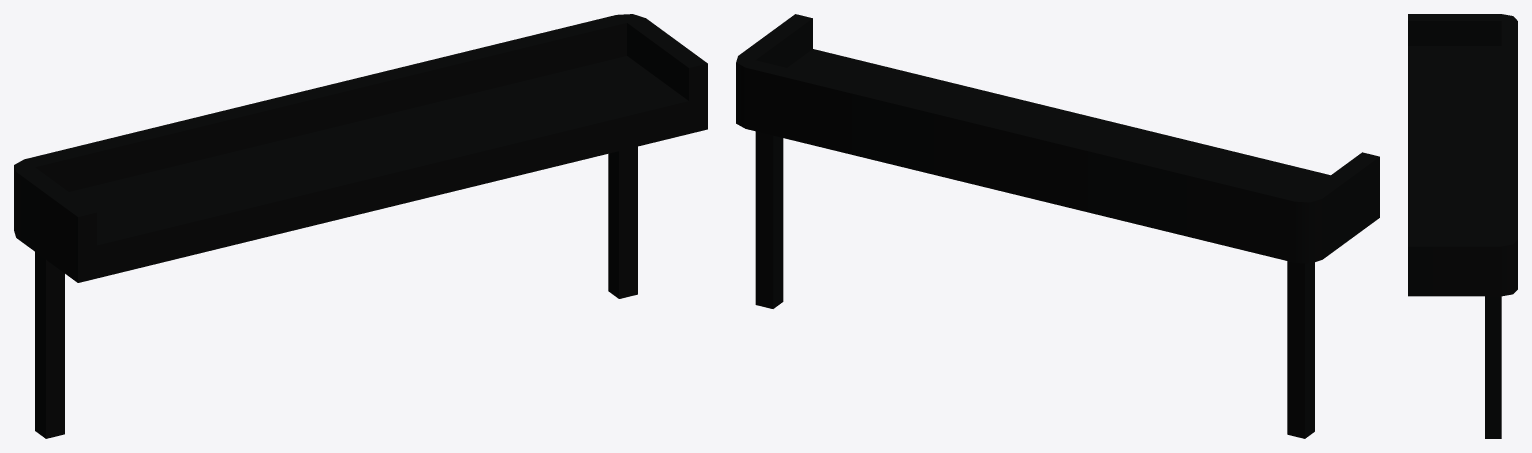
The model's file is detail-overhang-wide.glb.
3 renders of one model, left to right at view 1: azimuth 30°, elevation 25°; view 2: azimuth 150°, elevation 25°; view 3: azimuth 270°, elevation 25°, orthographic. The views are drawn at different scales.
Parts seen in each view (by area): view 1: detail-overhang-wide; view 2: detail-overhang-wide; view 3: detail-overhang-wide.
Part boxes in pixels (bbox=[...]): detail-overhang-wide: bbox=[14, 14, 707, 438]; detail-overhang-wide: bbox=[736, 14, 1379, 438]; detail-overhang-wide: bbox=[1408, 14, 1517, 438].
Size of the model in its own units: 1 by 0.4001 by 0.1998.
1 material, 1 textured.
